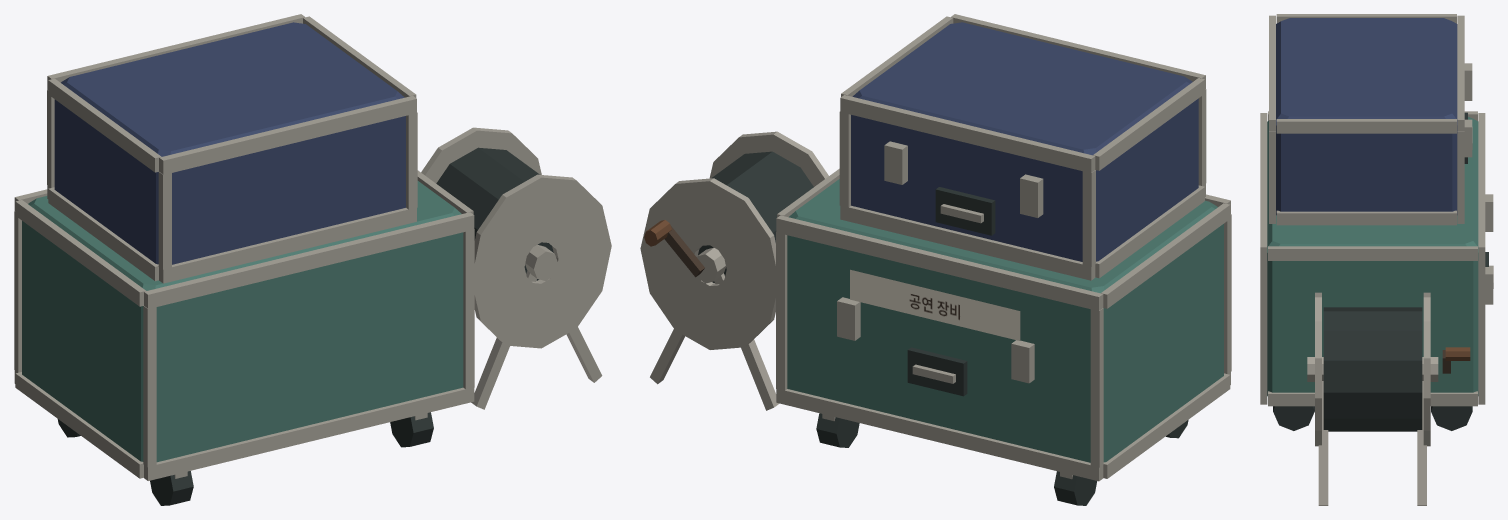
The model's file is P08_Flight_Cases_Cable_Reel.fbx.
3 views of the same model, side by side, from view 1: azimuth 30°, elevation 25°; view 2: azimuth 150°, elevation 25°; view 3: azimuth 270°, elevation 25° (orthographic). The views are drawn at different scales.
Visible parts, largest first — view 1: Lower_Case, Upper_Case, Cable_Reel; view 2: Lower_Case, Upper_Case, Cable_Reel, Front_Label; view 3: Upper_Case, Lower_Case, Cable_Reel.
Boxes of the visible parts, left/top/right/bottom form: Lower_Case: left=14, top=170, right=474, bottom=505; Upper_Case: left=47, top=14, right=417, bottom=283; Cable_Reel: left=421, top=127, right=611, bottom=409; Lower_Case: left=776, top=168, right=1231, bottom=505; Upper_Case: left=839, top=14, right=1206, bottom=280; Cable_Reel: left=640, top=131, right=828, bottom=410; Front_Label: left=850, top=269, right=1020, bottom=340; Upper_Case: left=1269, top=14, right=1472, bottom=225; Lower_Case: left=1260, top=111, right=1493, bottom=430; Cable_Reel: left=1307, top=292, right=1470, bottom=505.
Size of the model in its own units: 2.4 by 1.65 by 1.15.
7 materials, 1 textured.
